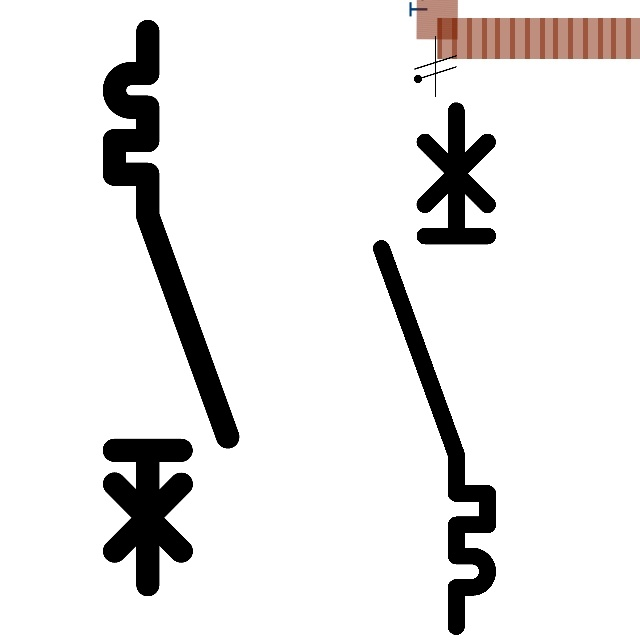interruptor_termomagnetico: (100, 17, 242, 599), (368, 97, 501, 639)
